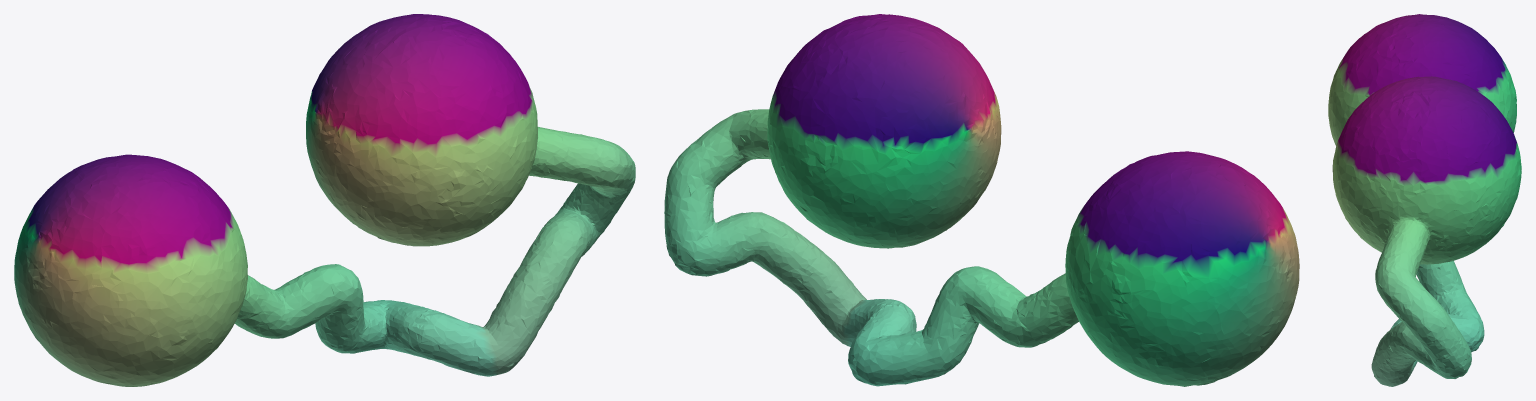
The model's file is twoballs-2.off.obj.
3 views of the same model, side by side, from view 1: azimuth 30°, elevation 25°; view 2: azimuth 150°, elevation 25°; view 3: azimuth 270°, elevation 25° (orthographic). The views are drawn at different scales.
Bounding box in the file's own units: 1.78 × 0.9647 × 0.6059.
